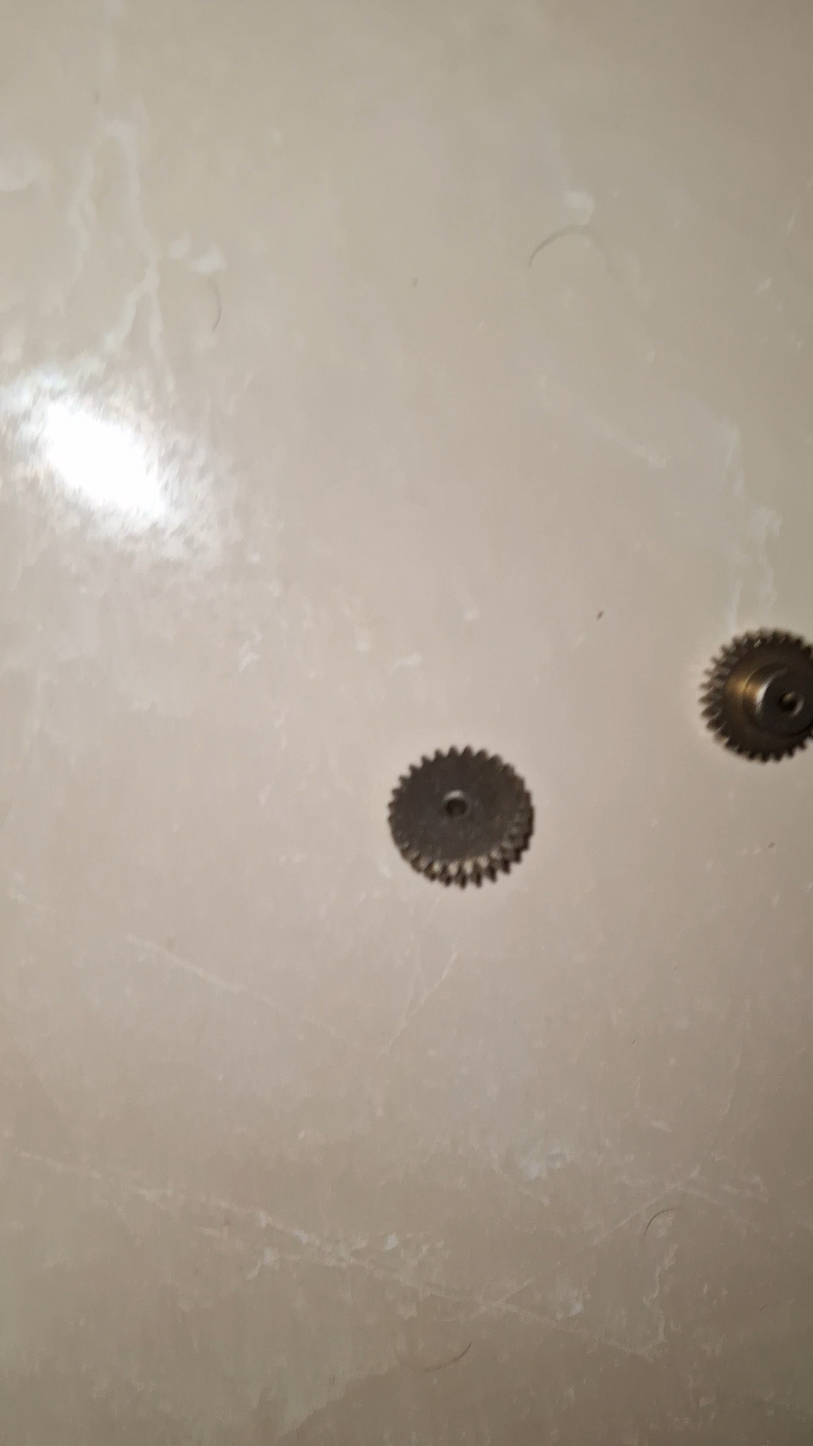spur gear: (389, 747, 533, 886), (702, 630, 813, 761)
